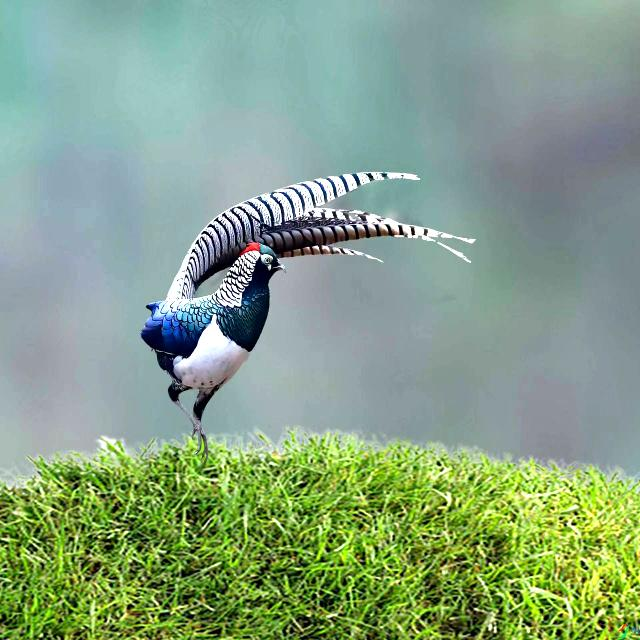Chrysolophus amherstiae: (167, 172, 474, 299)
